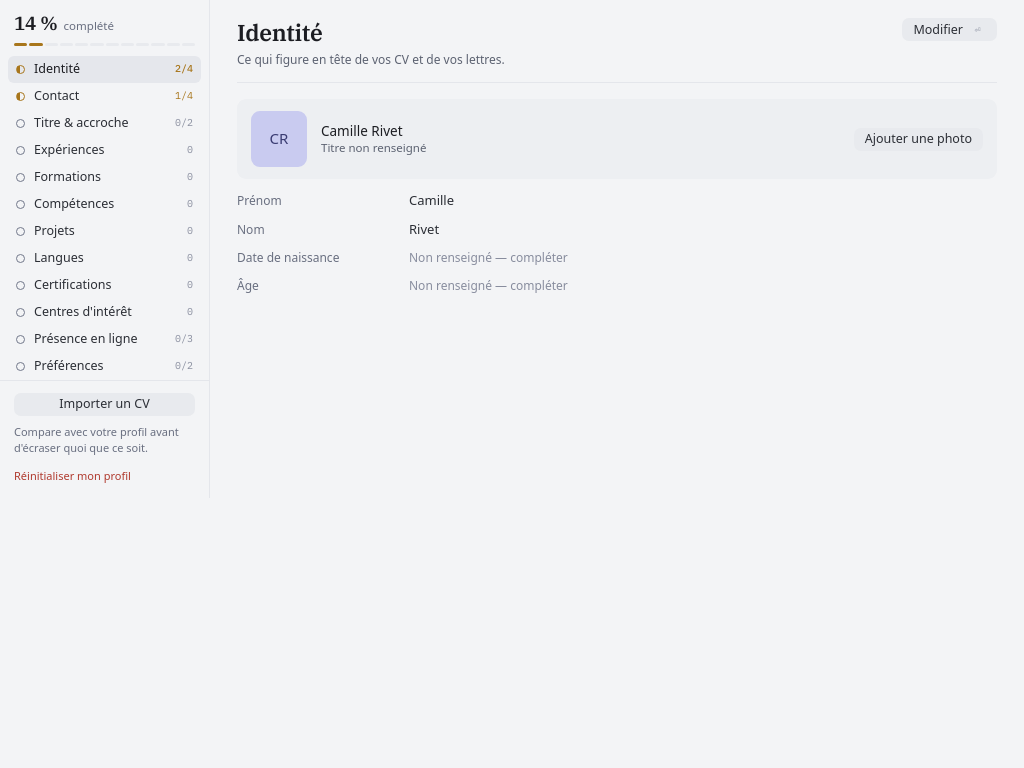
Scenario: écran Profil — import de CV › propose l'import sous les sections et ouvre la revue
Expected: the element named "Sections du profil" is shown, x1=0 y1=56 x2=209 y2=380
Click the button "Importer un CV" at {"x": 104, "y": 404}, box x1=14 y1=393 x2=195 y2=416
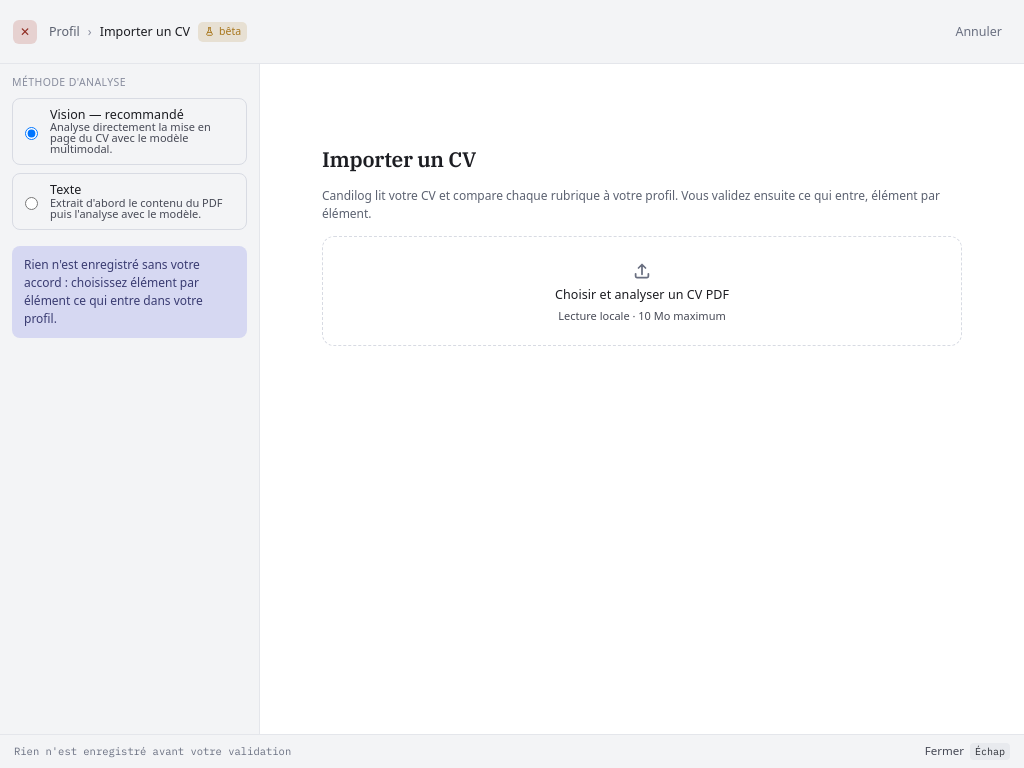
Now the dialog "Importer un CV" is shown
